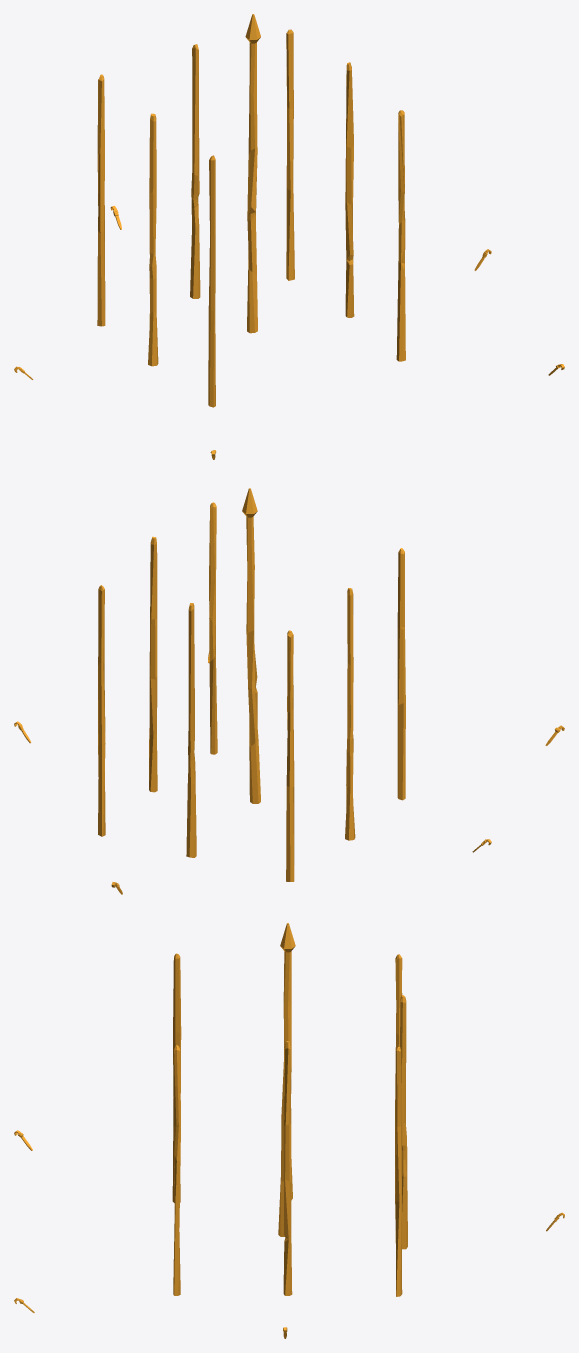
The model's file is SM_Tent_Angular_Striped_Construct_A_Frame_Fantasy.fbx.
The picture shows the model from 3 angles, top to bottom: view 1: azimuth 30°, elevation 25°; view 2: azimuth 150°, elevation 25°; view 3: azimuth 270°, elevation 25°; orthographic projection.
Visible parts, largest first — view 1: tent-angular-striped-construct-a-frame-fantasy; view 2: tent-angular-striped-construct-a-frame-fantasy; view 3: tent-angular-striped-construct-a-frame-fantasy.
Part boxes in pixels (x1,y1,x2,y2): tent-angular-striped-construct-a-frame-fantasy: (14,14,564,459); tent-angular-striped-construct-a-frame-fantasy: (14,488,564,894); tent-angular-striped-construct-a-frame-fantasy: (14,923,564,1338).
Size of the model in its own units: 8.06 by 5.31 by 8.11.
